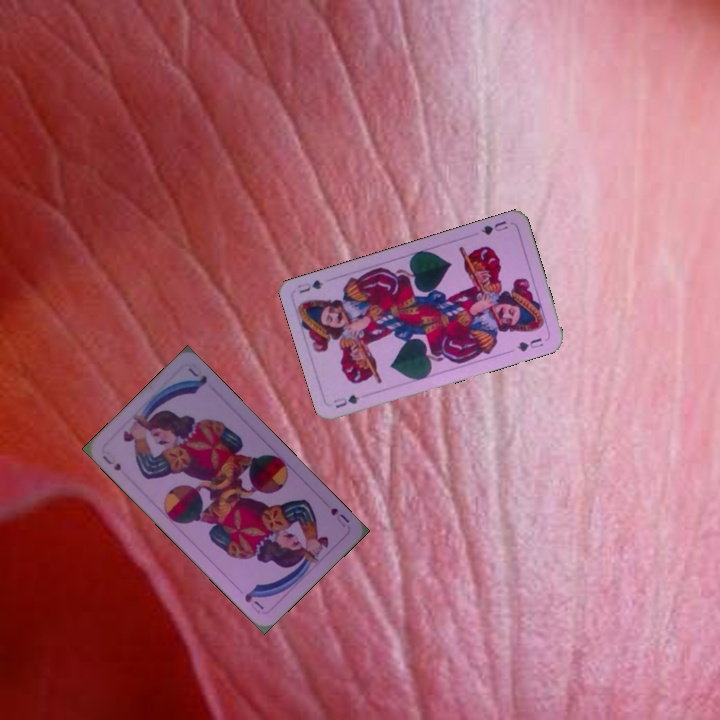GU: (329, 391, 363, 411), (478, 217, 510, 238)
SU: (326, 504, 352, 530), (98, 451, 124, 475)
